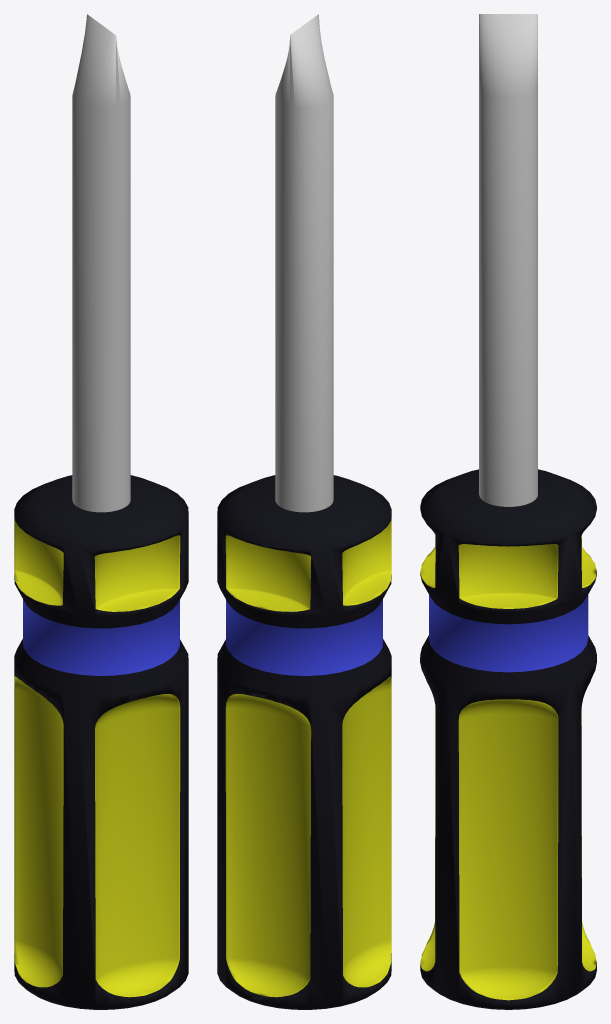
The model's file is screwdriver.obj.
3 views of the same model, side by side, from view 1: azimuth 30°, elevation 25°; view 2: azimuth 150°, elevation 25°; view 3: azimuth 270°, elevation 25° (orthographic).
Parts seen in each view (by area): view 1: screwdriver; view 2: screwdriver; view 3: screwdriver.
Boxes of the visible parts, x1,y1,x2,y2 form: screwdriver: (14,14,188,1009); screwdriver: (217,14,391,1009); screwdriver: (420,14,596,1009).
Bounding box in the file's own units: 0.03 × 0.18 × 0.03.
Materials: 1 (1 with a texture image).
